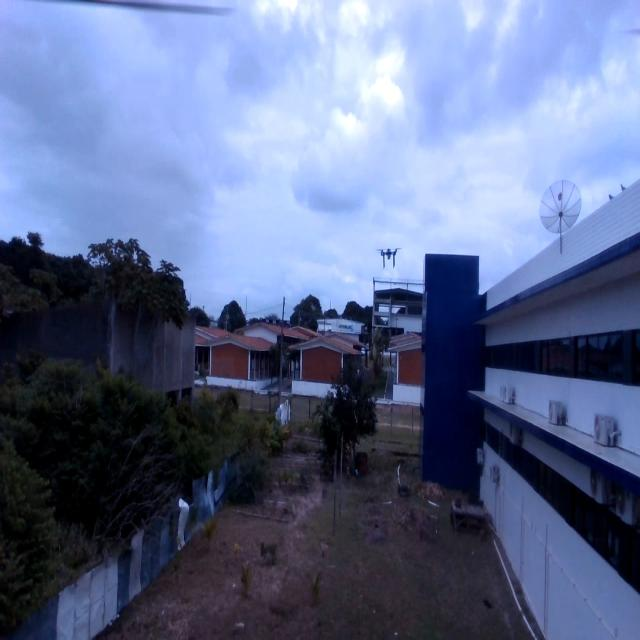-uav-: (375, 243, 399, 274)
